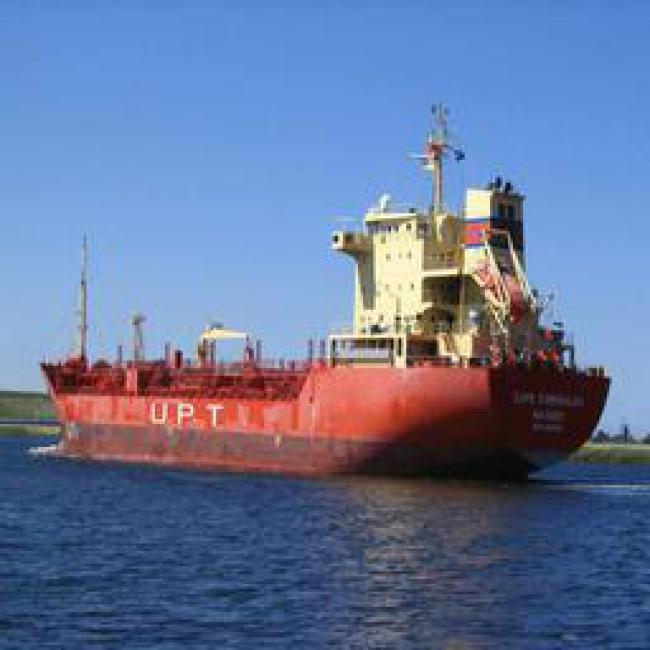Ship: (40, 330, 609, 483)
